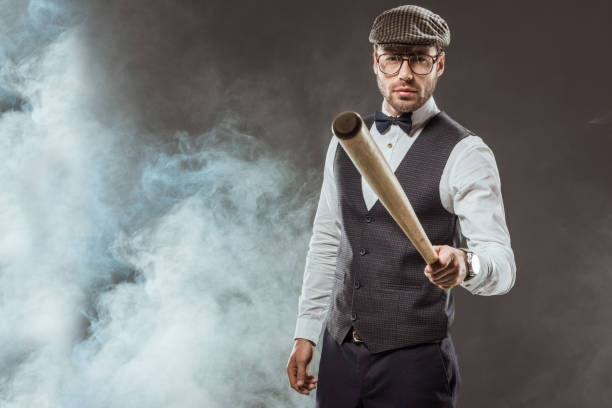bita: (342, 110, 446, 269)
